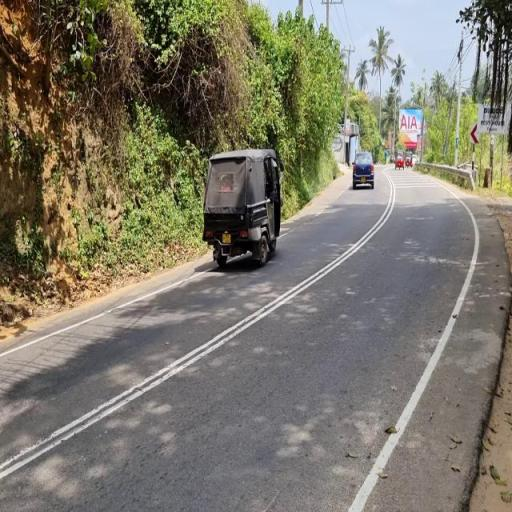double_white_line: (0, 171, 394, 487)
